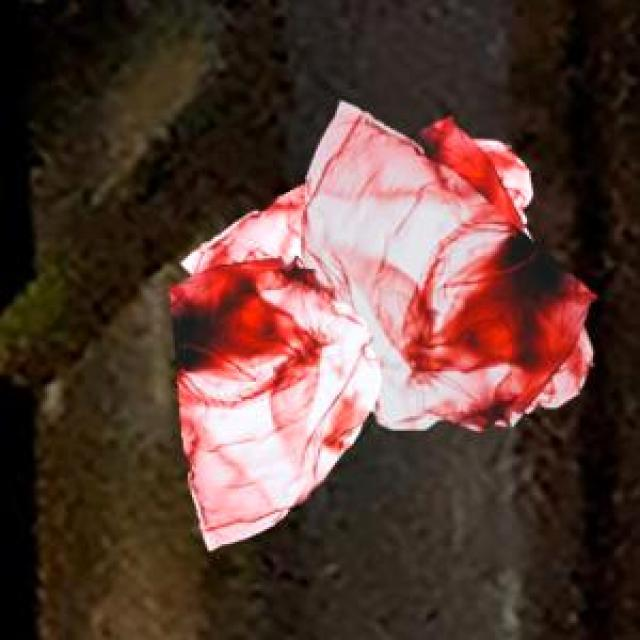Plastic_Bag: (300, 99, 594, 428), (165, 233, 379, 548), (178, 114, 528, 272)
